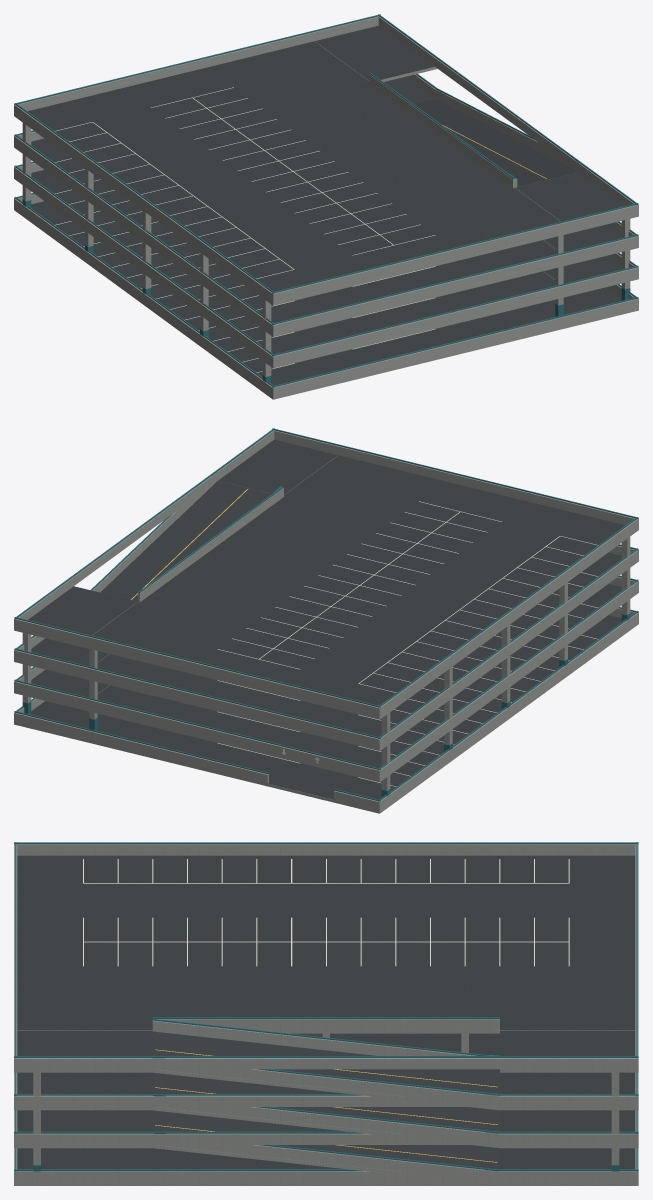
Rendered from medium_04.glb.
The picture shows the model from 3 angles, top to bottom: view 1: azimuth 30°, elevation 25°; view 2: azimuth 150°, elevation 25°; view 3: azimuth 270°, elevation 25°; orthographic projection. The views are drawn at different scales.
Visible parts, largest first — view 1: medium_04_Asphalt, medium_04_Concrete, medium_04_Teal, medium_04_Paint; view 2: medium_04_Asphalt, medium_04_Concrete, medium_04_Teal, medium_04_Paint; view 3: medium_04_Asphalt, medium_04_Concrete, medium_04_Teal, medium_04_Paint, medium_04_Yellow.
Part boxes in pixels (x1,y1,x2,y2): medium_04_Asphalt: (28,25,624,385); medium_04_Concrete: (14,16,638,399); medium_04_Teal: (14,14,638,387); medium_04_Paint: (55,87,435,372); medium_04_Asphalt: (28,439,624,799); medium_04_Concrete: (14,430,638,813); medium_04_Teal: (14,428,638,801); medium_04_Paint: (217,501,597,786); medium_04_Asphalt: (17,855,635,1169); medium_04_Concrete: (14,844,638,1185); medium_04_Teal: (14,842,638,1171); medium_04_Paint: (83,859,569,966); medium_04_Yellow: (155,1049,497,1162).
Size of the model in its own units: 44 by 12.28 by 54.02.
6 materials, 2 textured.
